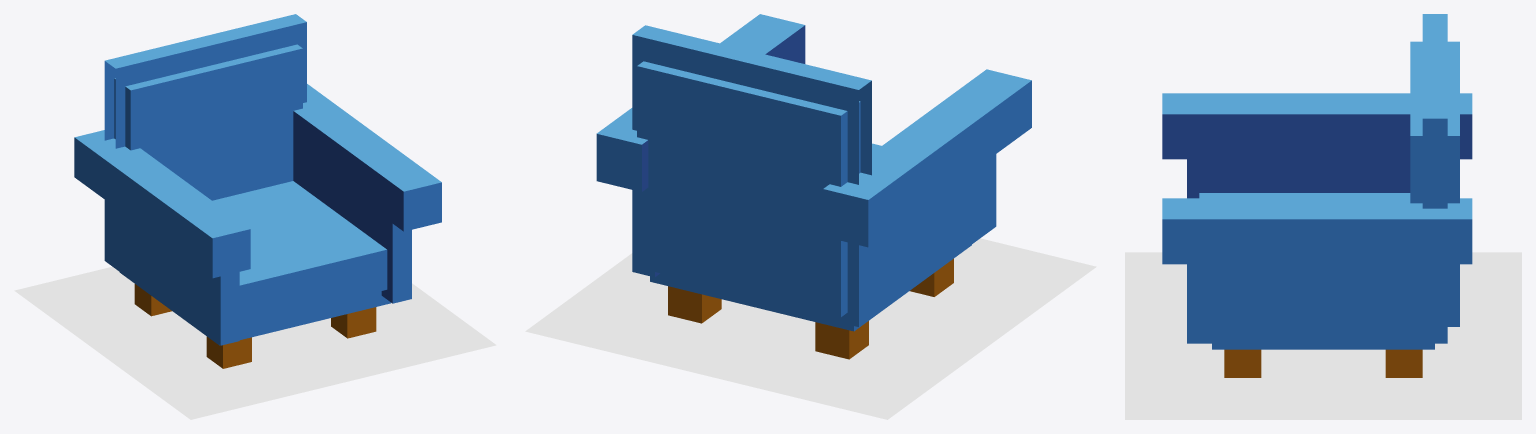
File: Armchair.gltf
3 renders of one model, left to right at view 1: azimuth 30°, elevation 25°; view 2: azimuth 150°, elevation 25°; view 3: azimuth 270°, elevation 25°, orthographic. The views are drawn at different scales.
Parts seen in each view (by area): view 1: plane (×2), back, cushion, rightarmtop, leftarmtop, rightarm, backtop, leftarm, bottom, leg1, leg4, leg2; view 2: back, plane (×2), rightarmtop, rightarm, backtop, leftarmtop, bottom, leg2, leg3, leg1, leftarm; view 3: plane (×2), leftarm, leftarmtop, rightarmtop, rightarm, backtop, back, bottom, cushion, leg3, leg4.
Part boxes in pixels (bbox=[...]): plane (×2): bbox=[14, 266, 496, 419]; back: bbox=[114, 44, 302, 200]; cushion: bbox=[212, 181, 387, 325]; rightarmtop: bbox=[74, 130, 250, 278]; leftarmtop: bbox=[293, 84, 441, 231]; rightarm: bbox=[104, 200, 239, 345]; backtop: bbox=[104, 14, 306, 148]; leftarm: bbox=[293, 151, 411, 303]; bottom: bbox=[119, 272, 390, 345]; leg1: bbox=[206, 336, 251, 368]; leg4: bbox=[331, 307, 376, 338]; leg2: bbox=[134, 284, 171, 316]; back: bbox=[637, 61, 860, 317]; plane (×2): bbox=[525, 238, 1096, 419]; rightarmtop: bbox=[823, 69, 1031, 247]; rightarm: bbox=[836, 154, 996, 326]; backtop: bbox=[632, 25, 871, 184]; leftarmtop: bbox=[596, 14, 805, 191]; bottom: bbox=[650, 244, 971, 331]; leg2: bbox=[815, 321, 868, 359]; leg3: bbox=[668, 286, 721, 323]; leg1: bbox=[910, 258, 953, 296]; leftarm: bbox=[632, 190, 659, 277]; plane (×2): bbox=[1125, 252, 1521, 419]; leftarm: bbox=[1187, 264, 1447, 343]; leftarmtop: bbox=[1162, 198, 1472, 264]; rightarmtop: bbox=[1162, 93, 1472, 159]; rightarm: bbox=[1187, 159, 1410, 198]; backtop: bbox=[1422, 14, 1447, 208]; back: bbox=[1410, 41, 1459, 326]; bottom: bbox=[1212, 343, 1434, 349]; cushion: bbox=[1199, 193, 1410, 198]; leg3: bbox=[1385, 349, 1422, 377]; leg4: bbox=[1224, 349, 1261, 377].
Size of the model in its own units: 2 by 1.5 by 2.
3 materials, 1 textured.
